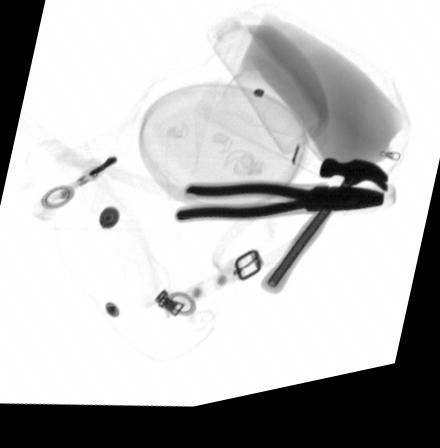Hammer: (260, 171, 388, 306)
Pliers: (172, 189, 385, 231)
